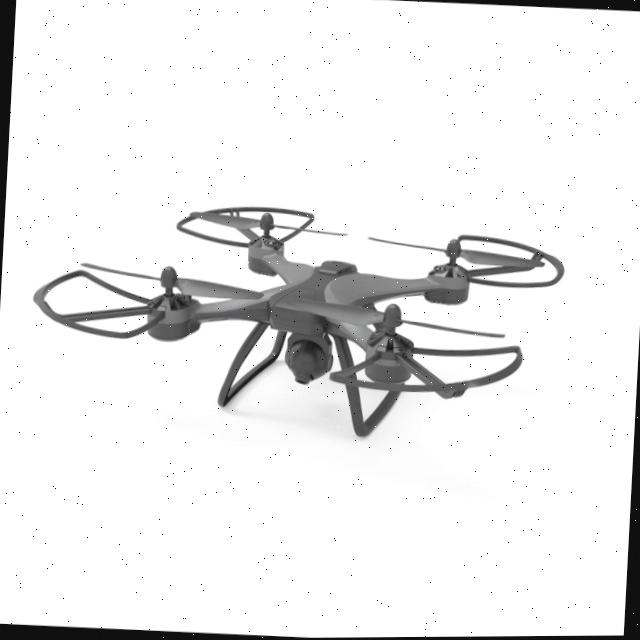drone: (0, 155, 640, 474)
